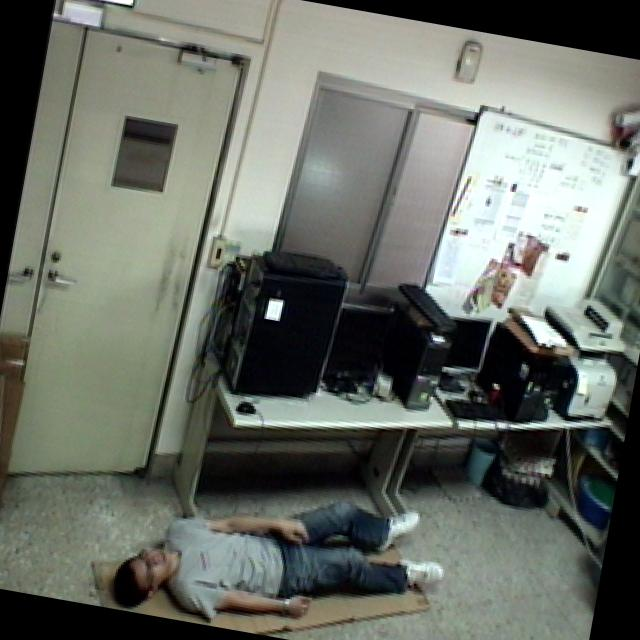lie: (99, 447, 462, 640)
